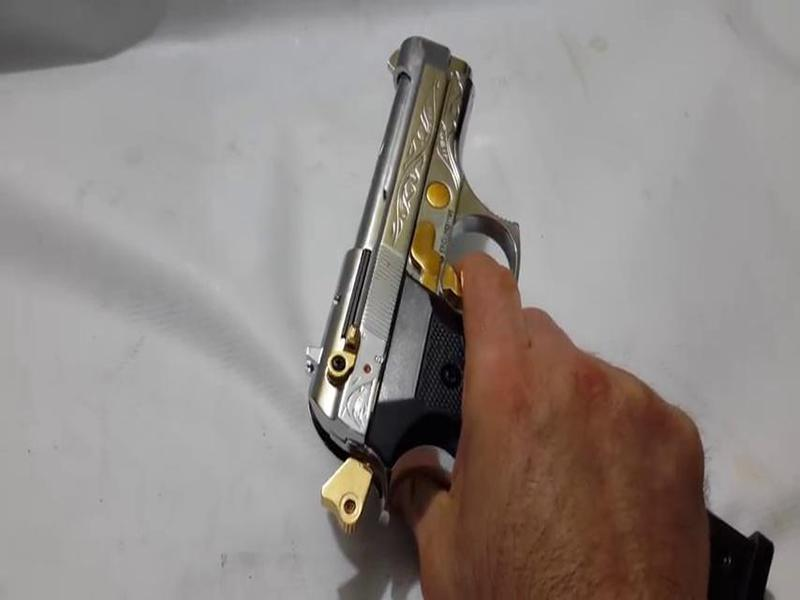Pistola: (267, 24, 788, 565)
